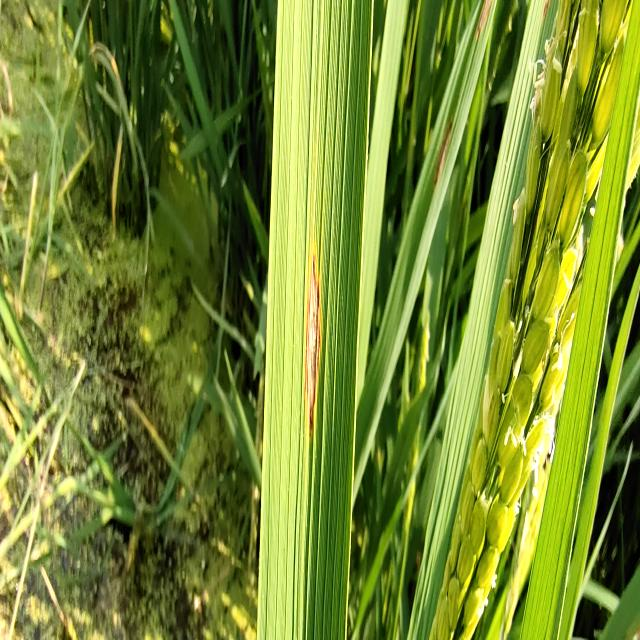LEAF BLAST: (304, 243, 322, 439)
